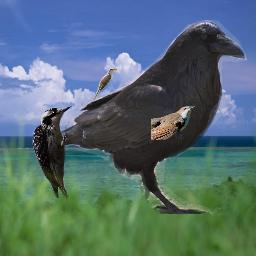Crow: (36, 20, 247, 214)
Cuckoo: (151, 106, 195, 140), (93, 68, 117, 101)
Woodpecker: (29, 101, 75, 203)
